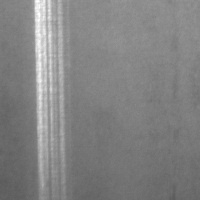scratches: (31, 1, 69, 199)
